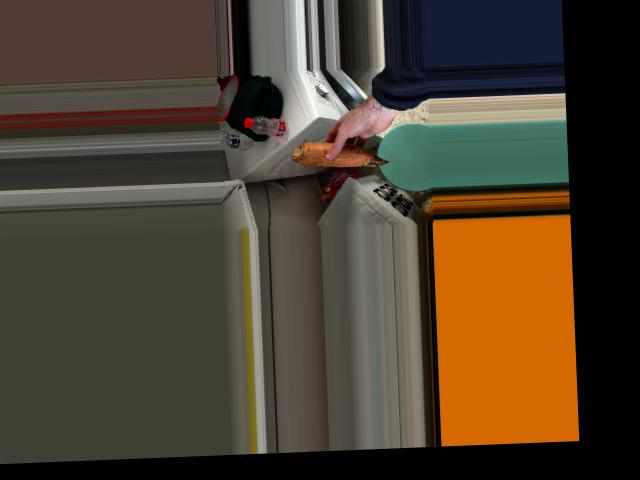sweet_potato: (294, 138, 388, 177)
